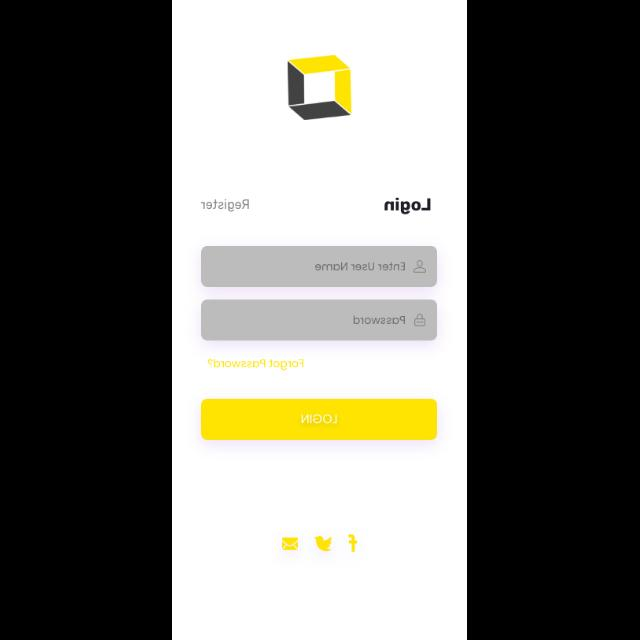icon: (314, 536, 332, 552), (282, 538, 298, 550), (414, 260, 426, 274), (414, 314, 426, 326), (349, 534, 357, 552)
image: (288, 55, 352, 121)
input: (201, 246, 437, 288), (202, 300, 438, 340)
text: (208, 360, 304, 370), (385, 198, 431, 216), (316, 263, 404, 271), (202, 199, 250, 213), (354, 316, 406, 324)
textbutton: (202, 400, 438, 440)
